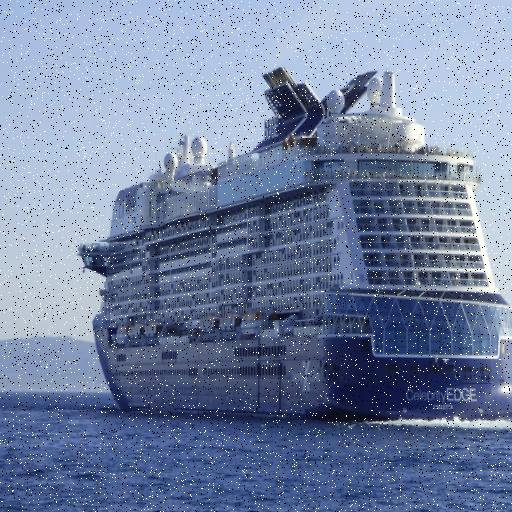cruises: (76, 65, 512, 433)
